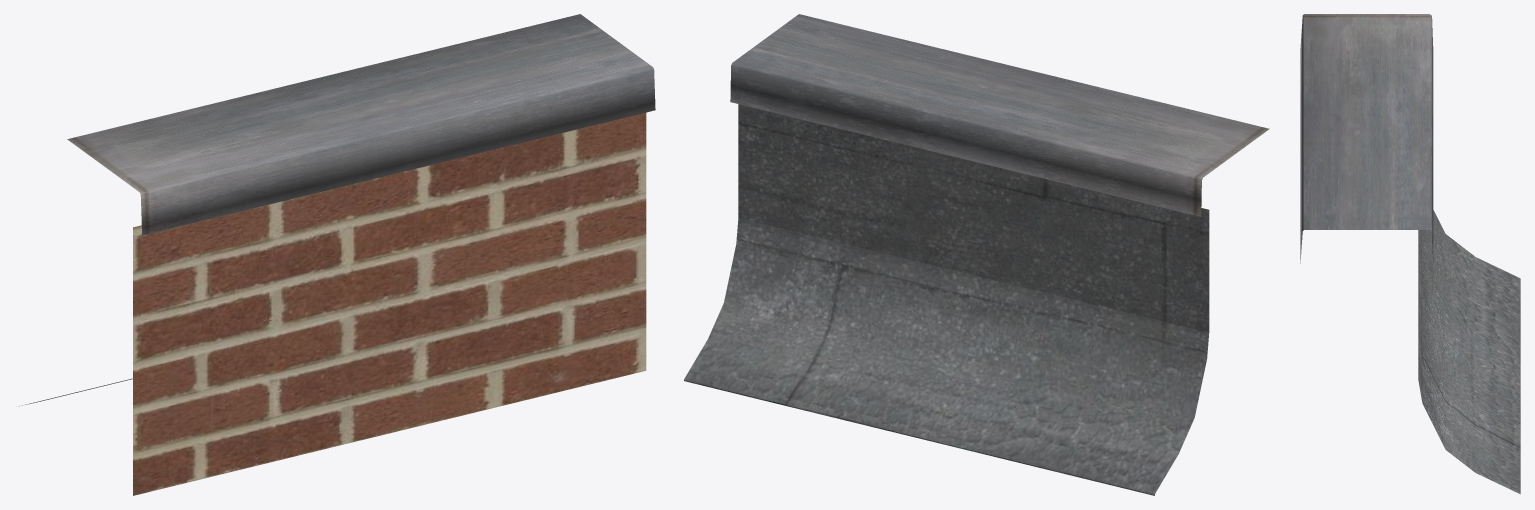
Rendered from SM_Roof_Edge_Flashing_16th_01.glb.
The picture shows the model from 3 angles, left to right: view 1: azimuth 30°, elevation 25°; view 2: azimuth 150°, elevation 25°; view 3: azimuth 270°, elevation 25°; orthographic projection. The views are drawn at different scales.
Parts seen in each view (by area): view 1: SM_Roof_Edge_Flashing_16th_01; view 2: SM_Roof_Edge_Flashing_16th_01; view 3: SM_Roof_Edge_Flashing_16th_01.
Boxes of the visible parts, x1,y1,x2,y2 form: SM_Roof_Edge_Flashing_16th_01: (19, 14, 655, 495); SM_Roof_Edge_Flashing_16th_01: (684, 14, 1269, 495); SM_Roof_Edge_Flashing_16th_01: (1300, 14, 1520, 494).
Bounding box in the file's own units: 1 × 0.5741 × 0.4308.
3 materials, 3 textured.
